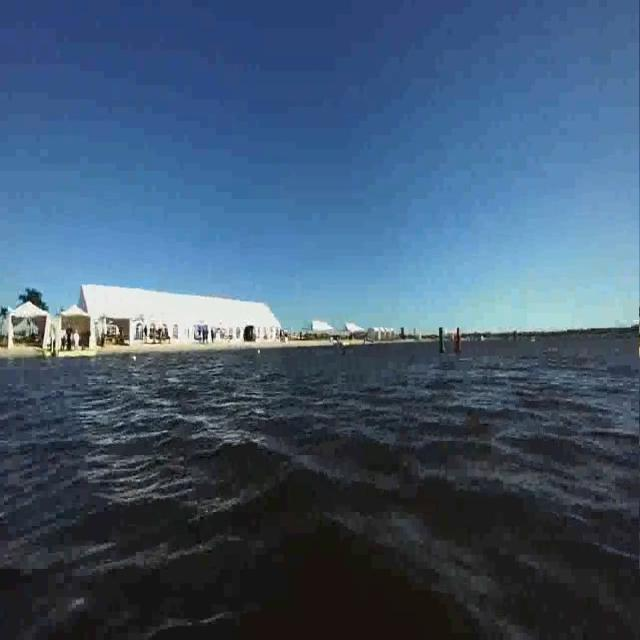green-column-buoy: (436, 328, 446, 356)
red-column-buoy: (451, 328, 461, 356)
